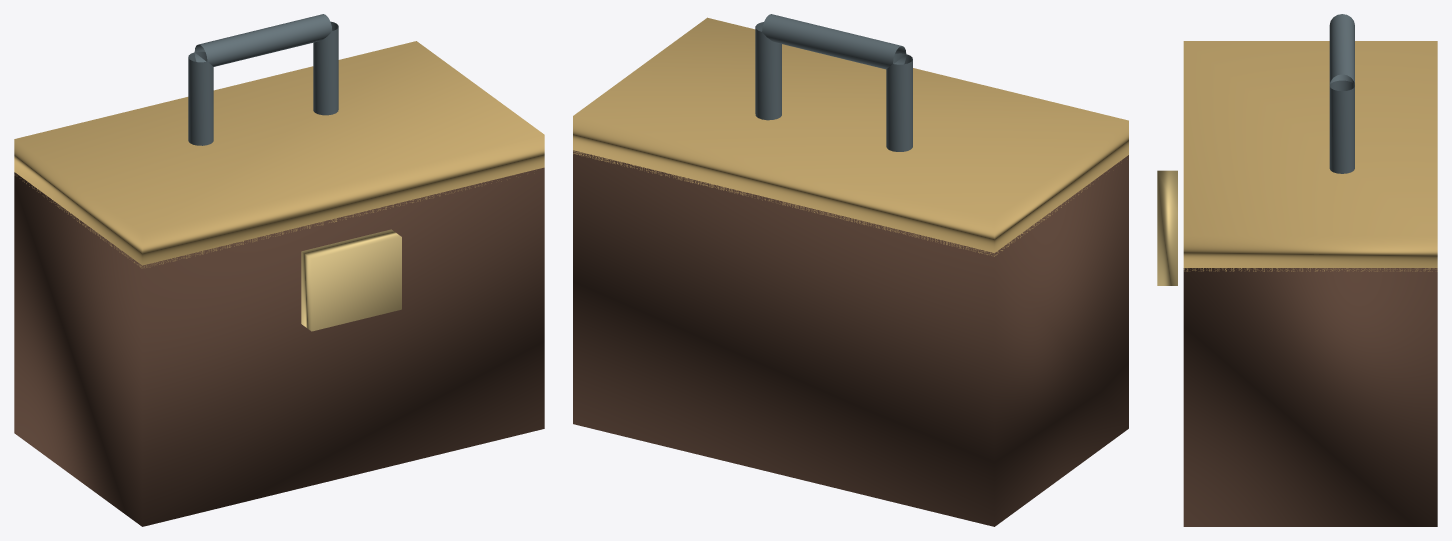
Rendered from Ionia_ChartCase_REVIEW.glb.
The picture shows the model from 3 angles, left to right: view 1: azimuth 30°, elevation 25°; view 2: azimuth 150°, elevation 25°; view 3: azimuth 270°, elevation 25°; orthographic projection. The views are drawn at different scales.
Visible parts, largest first — view 1: ChartCase; view 2: ChartCase; view 3: ChartCase.
Boxes of the visible parts, x1,y1,x2,y2 form: ChartCase: (14,14,544,526); ChartCase: (573,14,1128,526); ChartCase: (1157,14,1437,526).
Bounding box in the file's own units: 0.29 × 0.268 × 0.1765.
